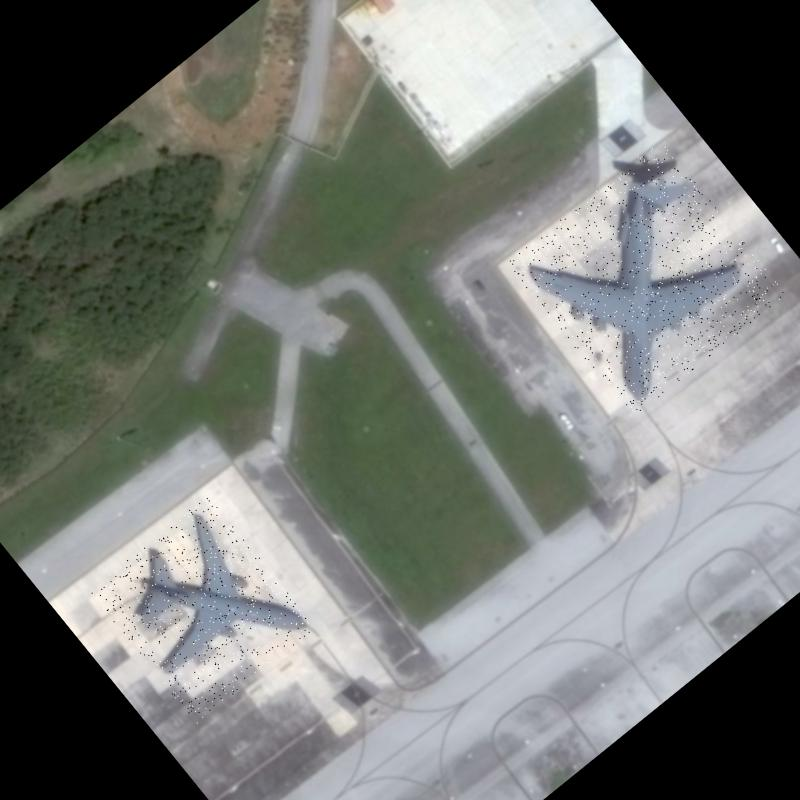A18: (88, 494, 316, 724)
A4: (506, 138, 786, 418)
